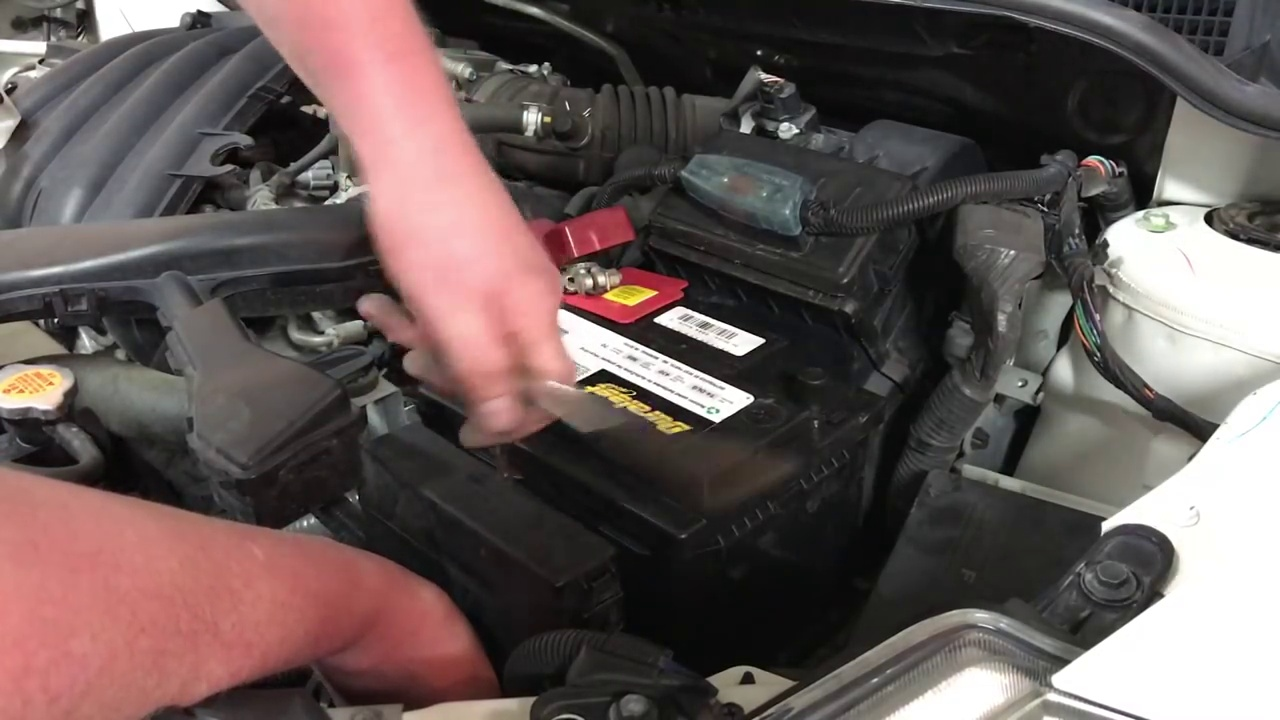battery: (426, 215, 823, 482)
pos_touched: (455, 180, 689, 341)
